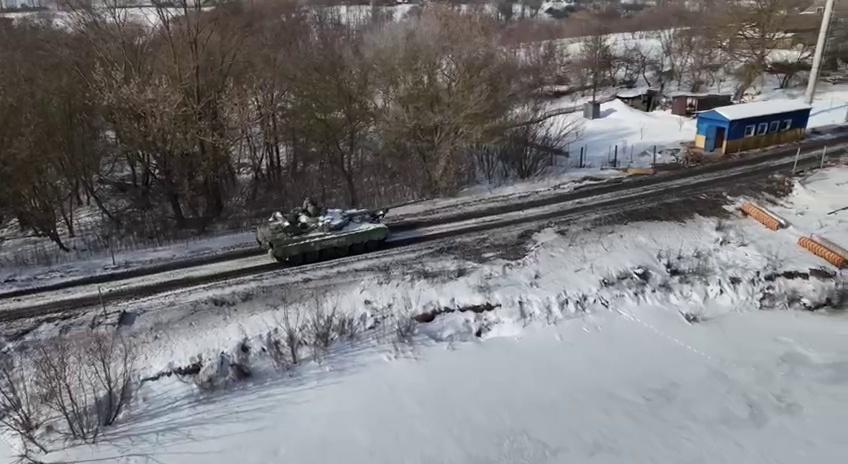tank: (256, 197, 426, 266)
